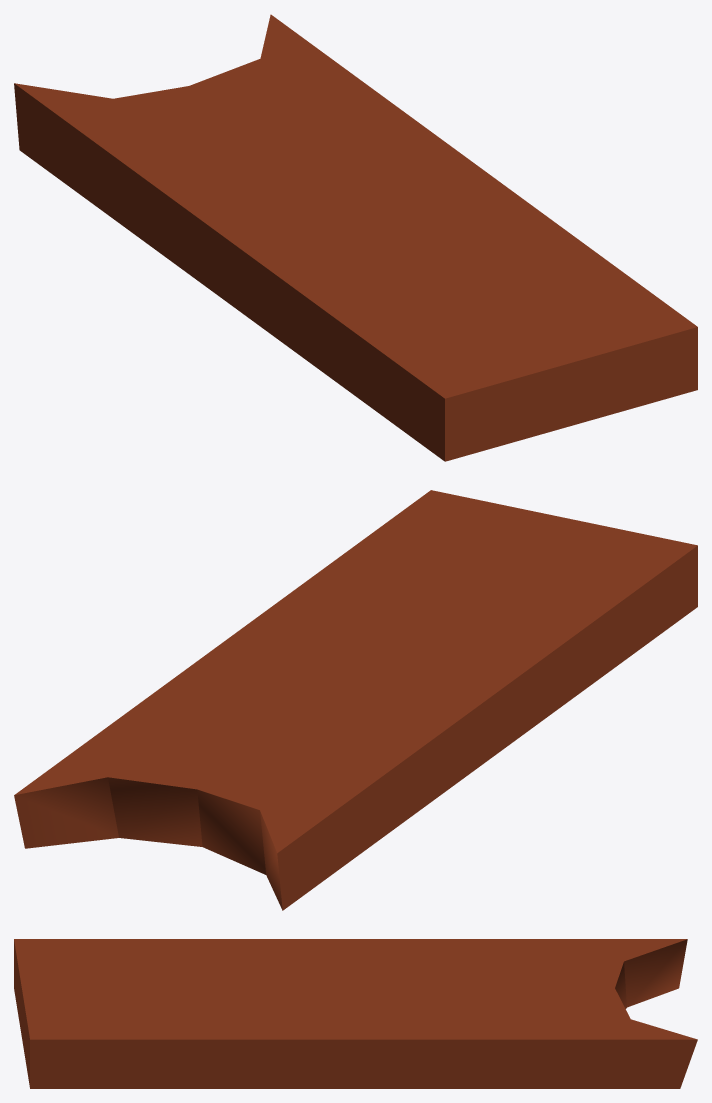
Rendered from BrokenBoard7.fbx.
3 views of the same model, one above another, from view 1: azimuth 30°, elevation 25°; view 2: azimuth 150°, elevation 25°; view 3: azimuth 270°, elevation 25° (orthographic). The views are drawn at different scales.
Visible parts, largest first — view 1: BrokenBoard.007; view 2: BrokenBoard.007; view 3: BrokenBoard.007.
Boxes of the visible parts, bbox=[...] form: BrokenBoard.007: bbox=[14, 14, 697, 461]; BrokenBoard.007: bbox=[14, 490, 697, 910]; BrokenBoard.007: bbox=[14, 939, 697, 1088].
Bounding box in the file's own units: 169 × 38.61 × 486.
